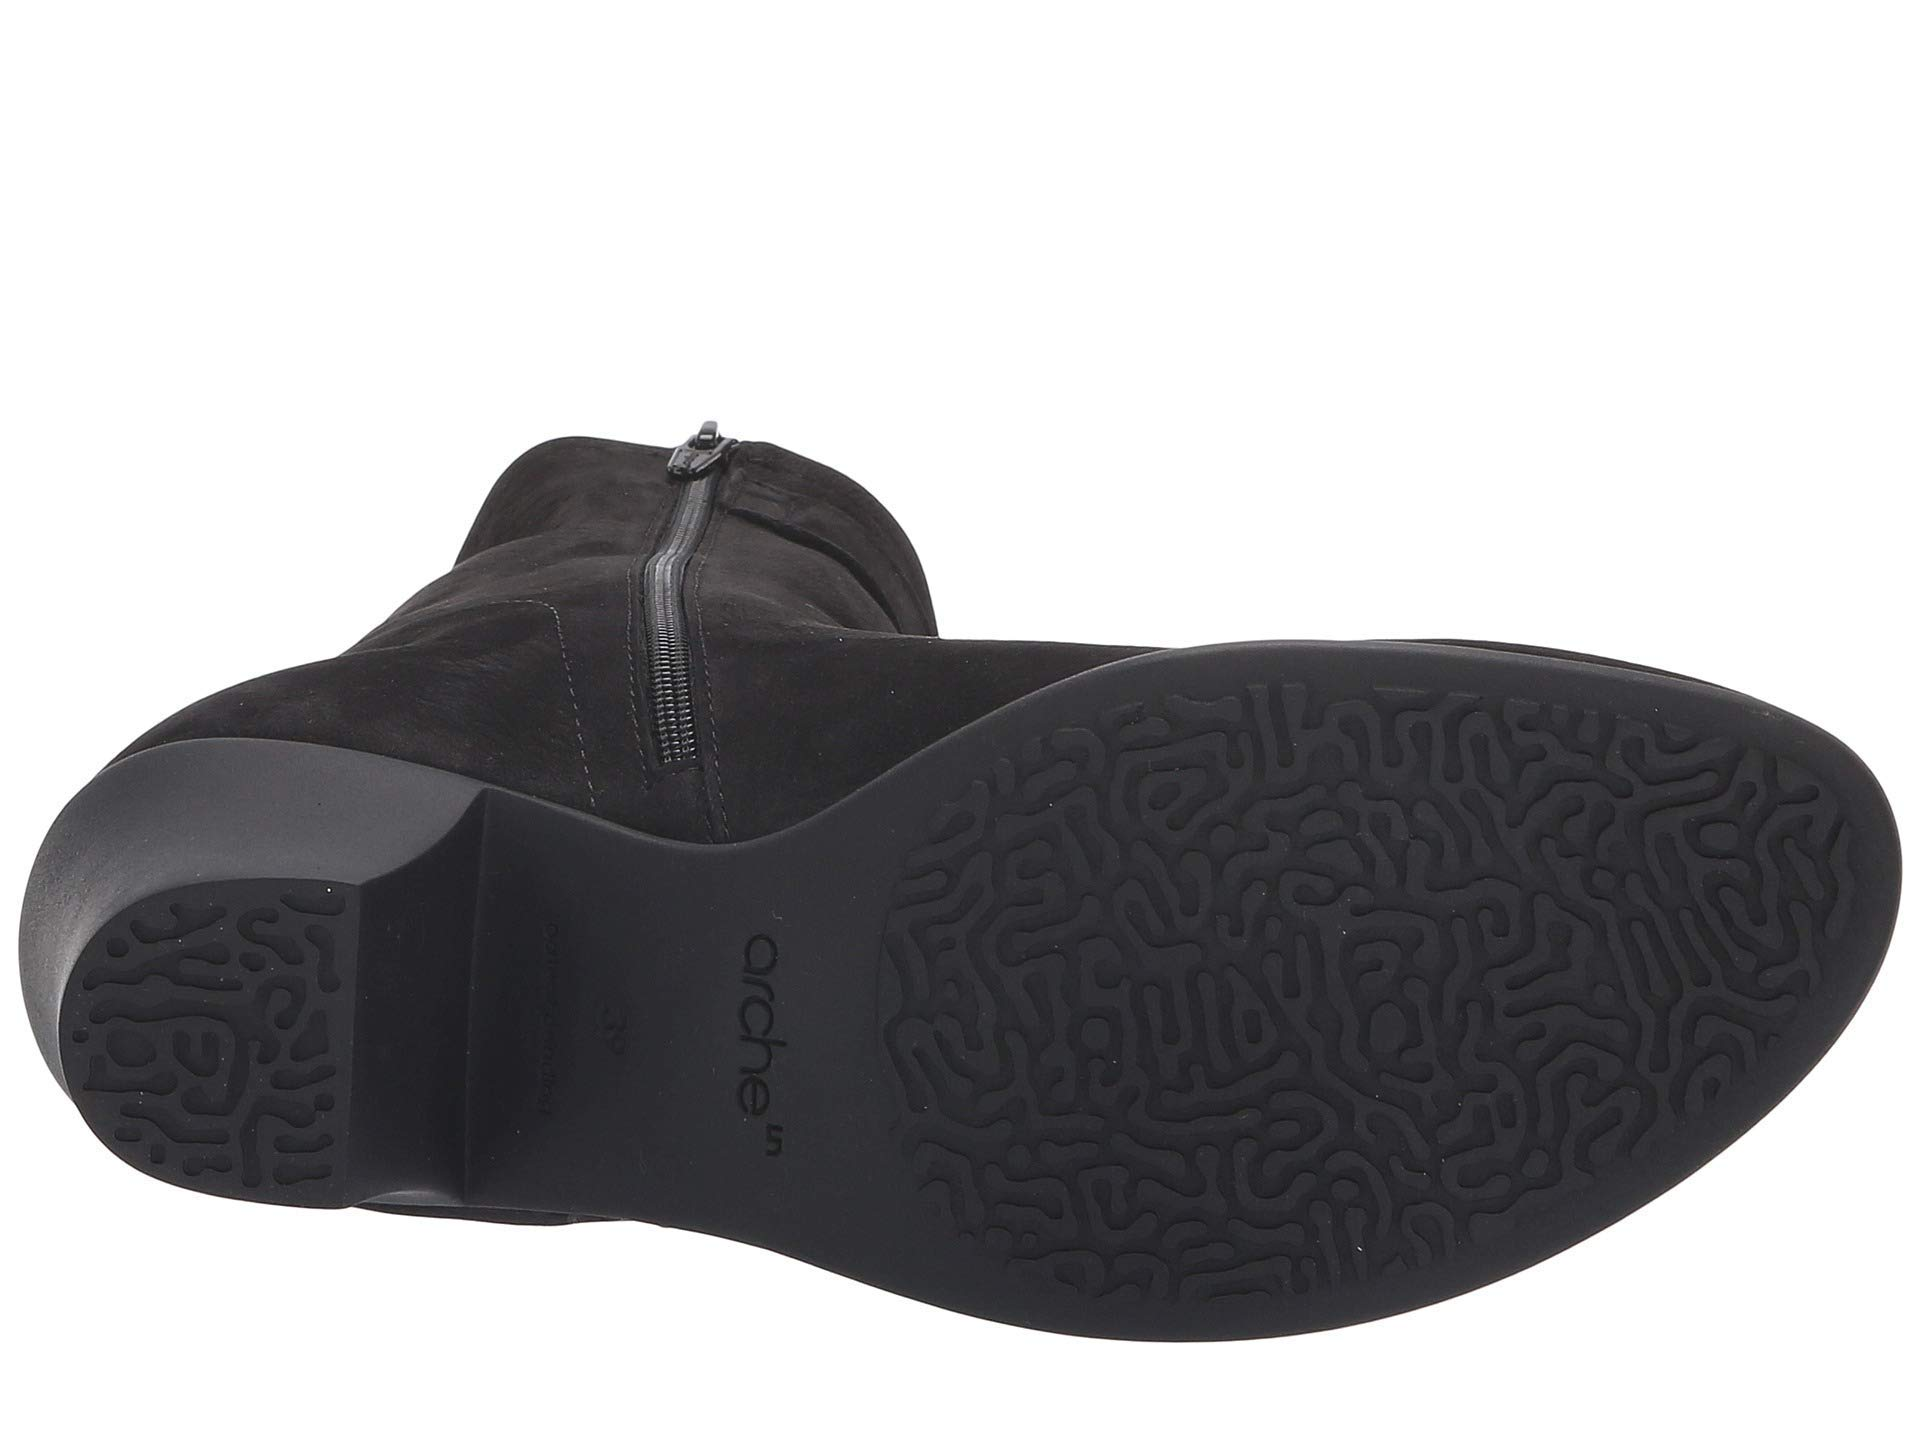circle: (1421, 706, 1781, 1121), (685, 880, 844, 1195)
line: (1421, 706, 1781, 1121)
quad: (1421, 706, 1781, 1121)
text: (685, 880, 844, 1195)
